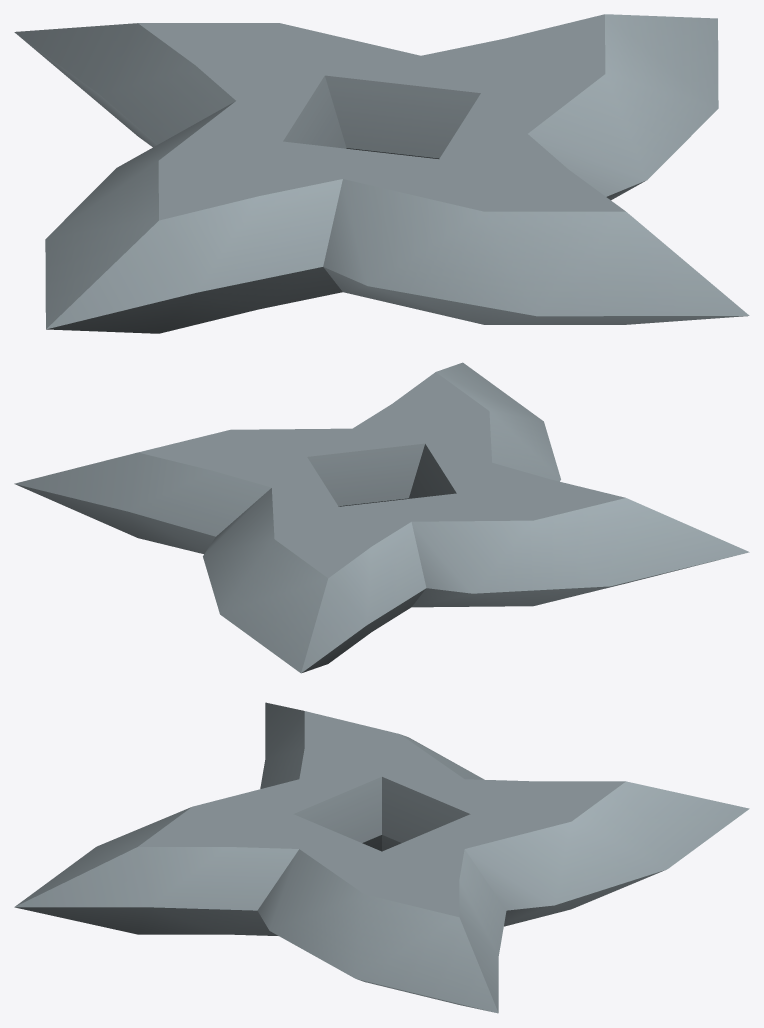
The model's file is Ninja_Shuriken.obj.
3 renders of one model, top to bottom at view 1: azimuth 30°, elevation 25°; view 2: azimuth 150°, elevation 25°; view 3: azimuth 270°, elevation 25°, orthographic. The views are drawn at different scales.
Visible parts, largest first — view 1: Ninja_Shuriken; view 2: Ninja_Shuriken; view 3: Ninja_Shuriken.
Boxes of the visible parts, x1,y1,x2,y2 form: Ninja_Shuriken: (14,14,749,333); Ninja_Shuriken: (14,362,749,673); Ninja_Shuriken: (14,702,749,1013).
Size of the model in its own units: 0.4386 by 0.0577 by 0.4386.
1 material, 1 textured.
